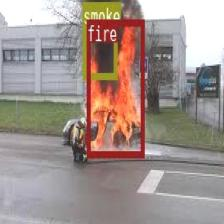fire: (86, 19, 144, 156)
smoke: (83, 1, 117, 78)
